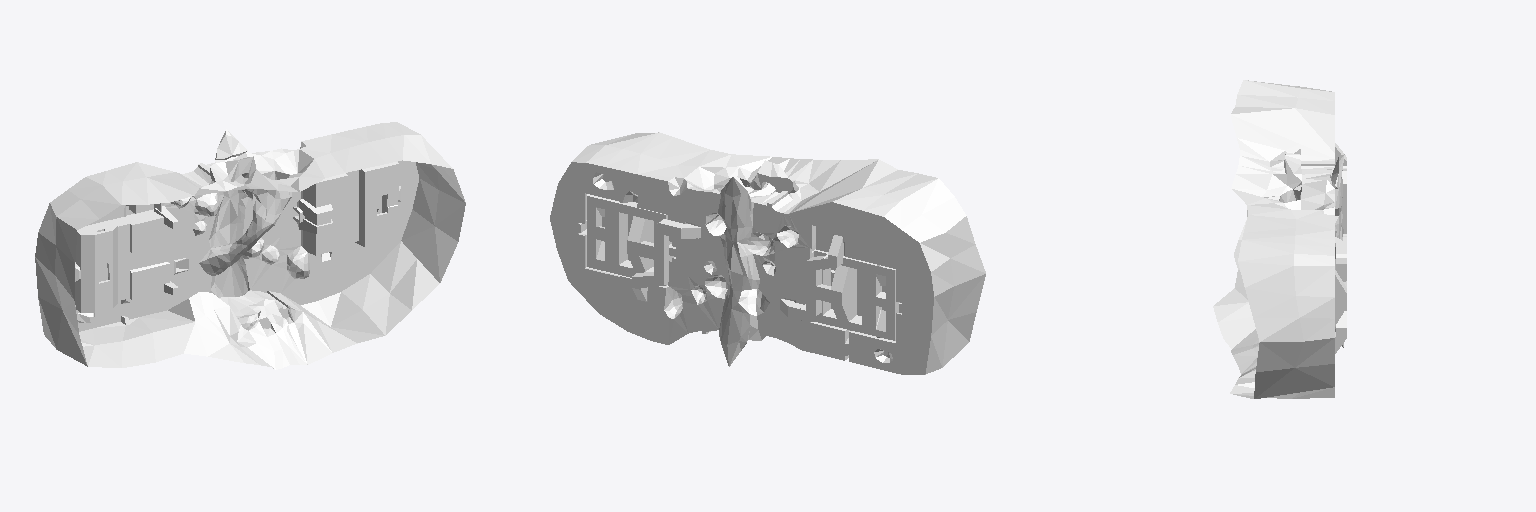
Rendered from beavercreek_Lightmap.obj.
3 renders of one model, left to right at view 1: azimuth 30°, elevation 25°; view 2: azimuth 150°, elevation 25°; view 3: azimuth 270°, elevation 25°, orthographic.
Visible parts, largest first — view 1: beavercreek_Lightmap_0, beavercreek_Lightmap_1, beavercreek_Lightmap_6; view 2: beavercreek_Lightmap_1, beavercreek_Lightmap_0, beavercreek_Lightmap_3, beavercreek_Lightmap_4, beavercreek_Lightmap_2, beavercreek_Lightmap_7; view 3: beavercreek_Lightmap_0, beavercreek_Lightmap_1.
Part boxes in pixels (x1,y1,x2,y2): beavercreek_Lightmap_0: (35, 122, 465, 369); beavercreek_Lightmap_1: (75, 160, 418, 331); beavercreek_Lightmap_6: (76, 222, 117, 312); beavercreek_Lightmap_1: (550, 162, 933, 374); beavercreek_Lightmap_0: (572, 132, 985, 374); beavercreek_Lightmap_3: (587, 194, 675, 285); beavercreek_Lightmap_4: (814, 250, 899, 340); beavercreek_Lightmap_2: (788, 255, 856, 321); beavercreek_Lightmap_7: (627, 216, 653, 271); beavercreek_Lightmap_0: (1213, 80, 1346, 398); beavercreek_Lightmap_1: (1335, 158, 1346, 353).
Bounding box in the file's own units: 4286 × 2110 × 1244.